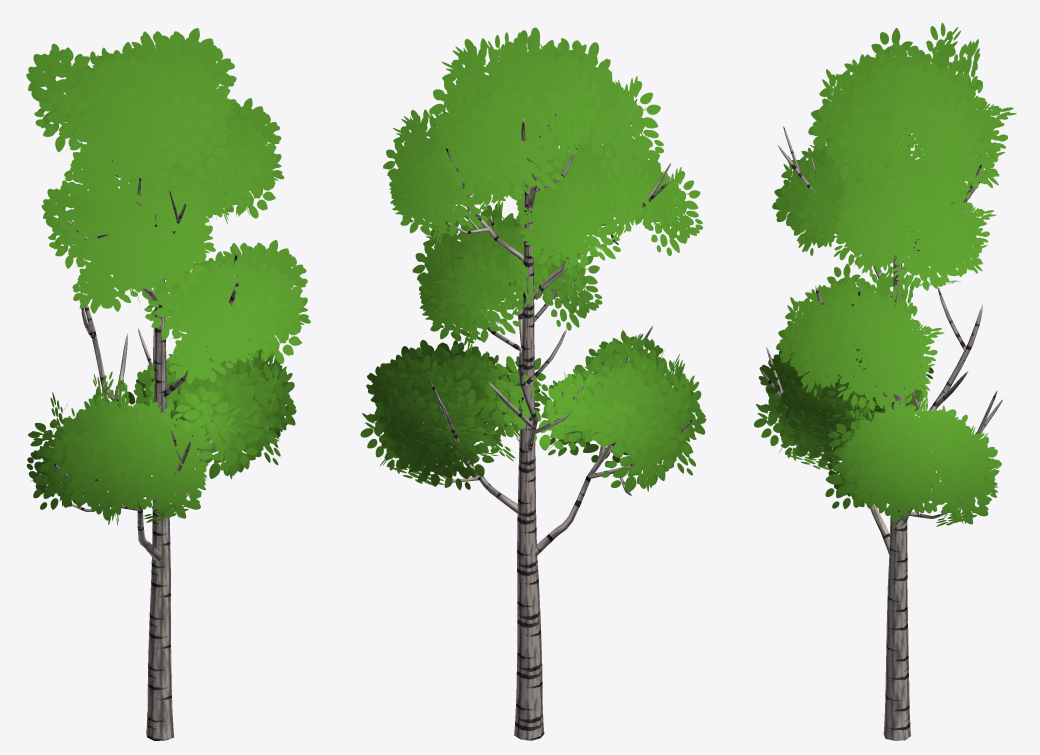
Rendered from BirchTree_2.gltf.
3 renders of one model, left to right at view 1: azimuth 30°, elevation 25°; view 2: azimuth 150°, elevation 25°; view 3: azimuth 270°, elevation 25°, orthographic. The views are drawn at different scales.
Parts seen in each view (by area): view 1: BirchTree_2; view 2: BirchTree_2; view 3: BirchTree_2.
Part boxes in pixels (x1,y1,x2,y2): BirchTree_2: [26, 28, 310, 740]; BirchTree_2: [360, 27, 706, 740]; BirchTree_2: [754, 22, 1016, 740].
Bounding box in the file's own units: 3.35 × 7.57 × 2.81.
Materials: 2 (2 with a texture image).
